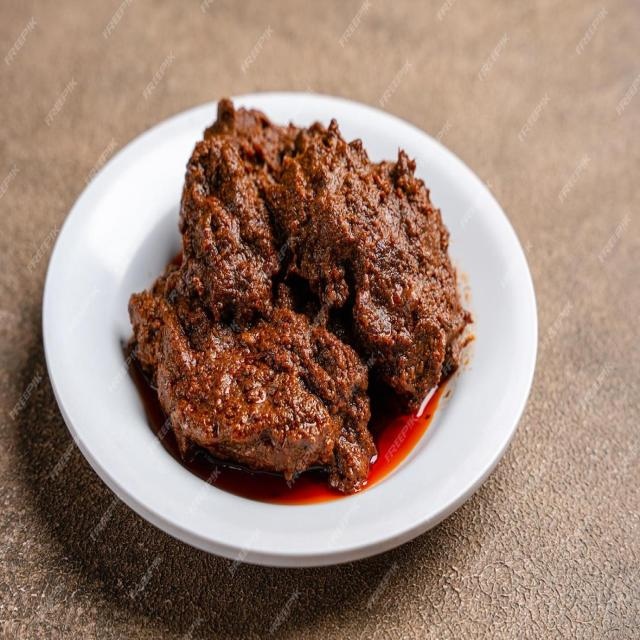Rendang: (92, 106, 487, 517)
